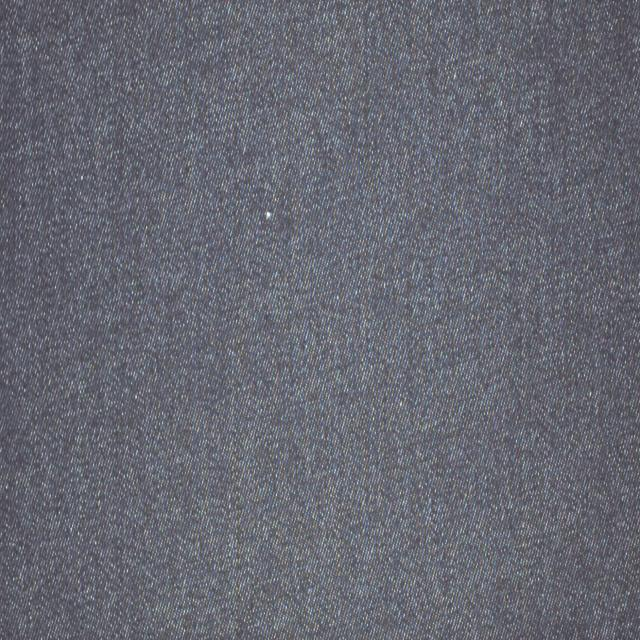Knot: (265, 210, 273, 220)
